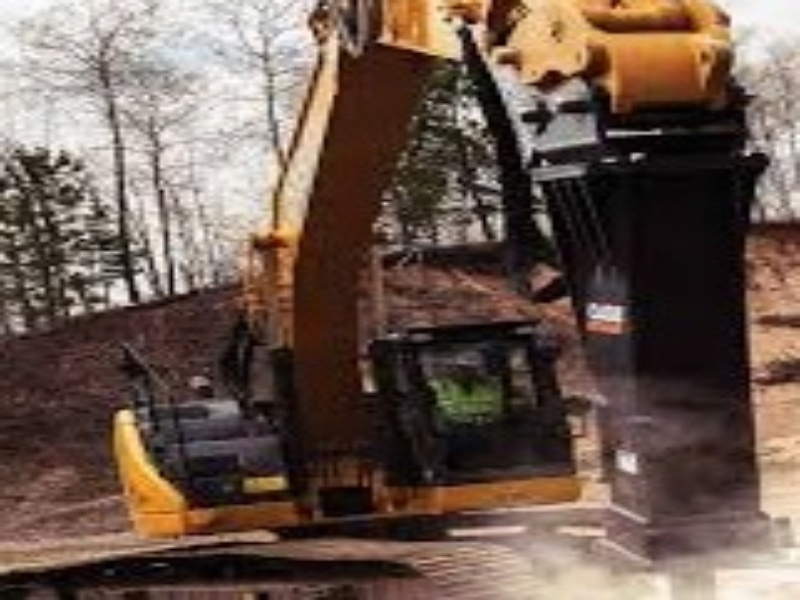wajueji: (98, 310, 670, 600)
